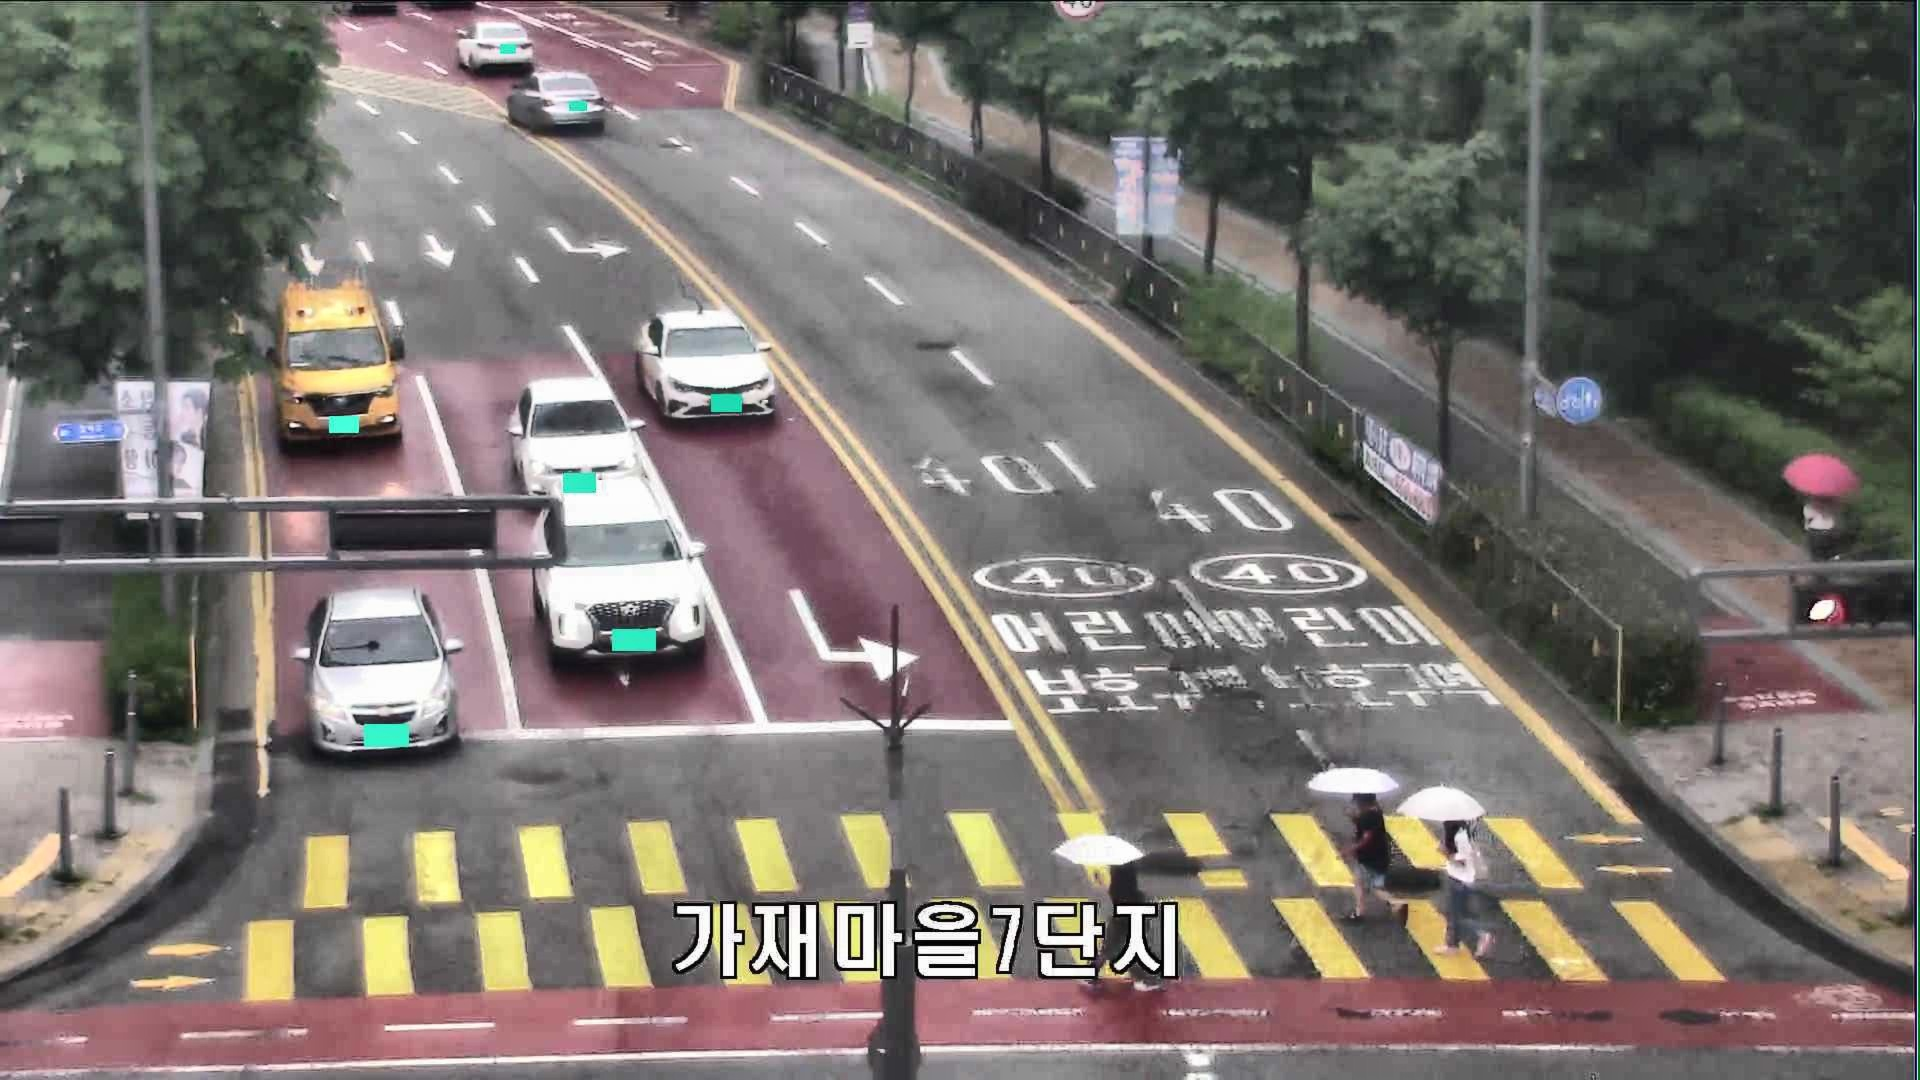um_crosswalk: (1398, 786, 1498, 956), (1054, 835, 1163, 990), (1309, 769, 1414, 928)
um_sidewalk: (1780, 455, 1861, 587)
